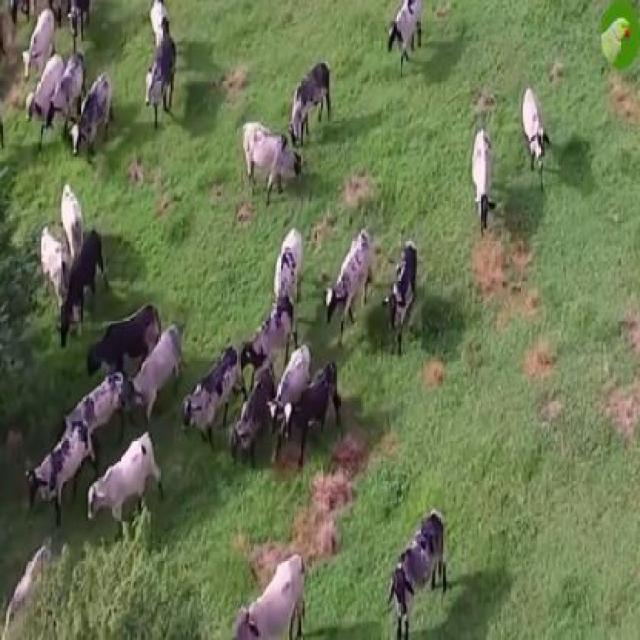Cow: (88, 434, 162, 541), (388, 509, 446, 638), (243, 120, 302, 202)
